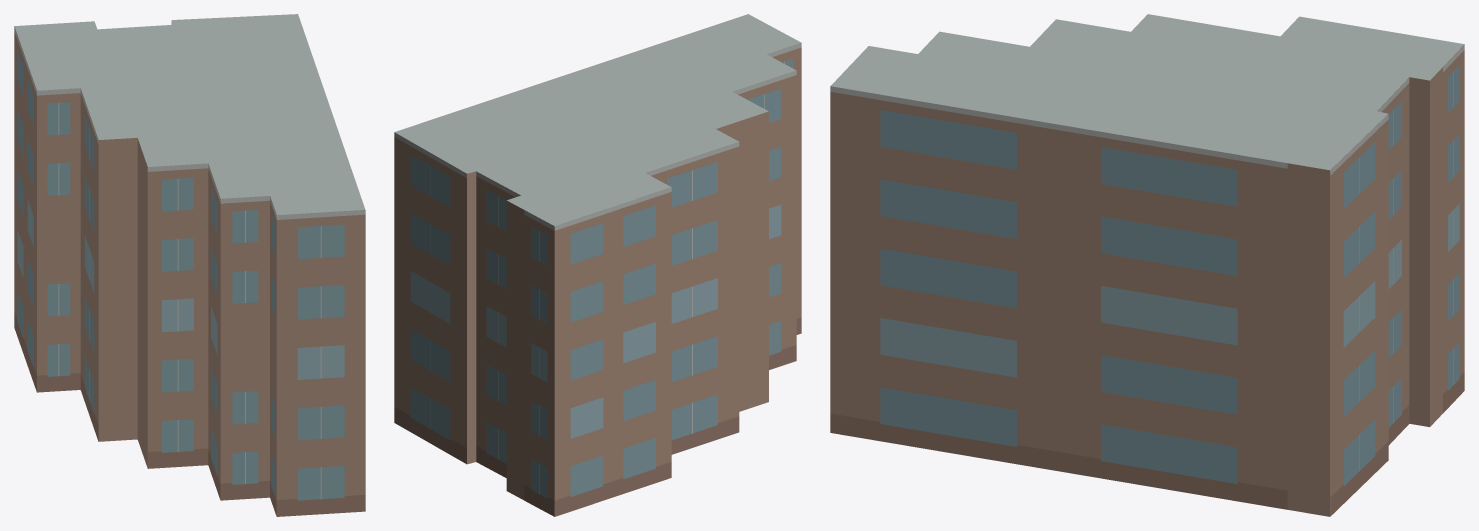
Rendered from survey-upis-32934549.glb.
The picture shows the model from 3 angles, left to right: view 1: azimuth 30°, elevation 25°; view 2: azimuth 150°, elevation 25°; view 3: azimuth 270°, elevation 25°; orthographic projection. The views are drawn at different scales.
Visible parts, largest first — view 1: survey-upis-32934549.tmp; view 2: survey-upis-32934549.tmp; view 3: survey-upis-32934549.tmp.
Part boxes in pixels (x1,y1,x2,y2): survey-upis-32934549.tmp: [14, 14, 365, 516]; survey-upis-32934549.tmp: [394, 14, 801, 516]; survey-upis-32934549.tmp: [830, 14, 1464, 516].
Size of the model in its own units: 14.76 by 15.25 by 25.3.
